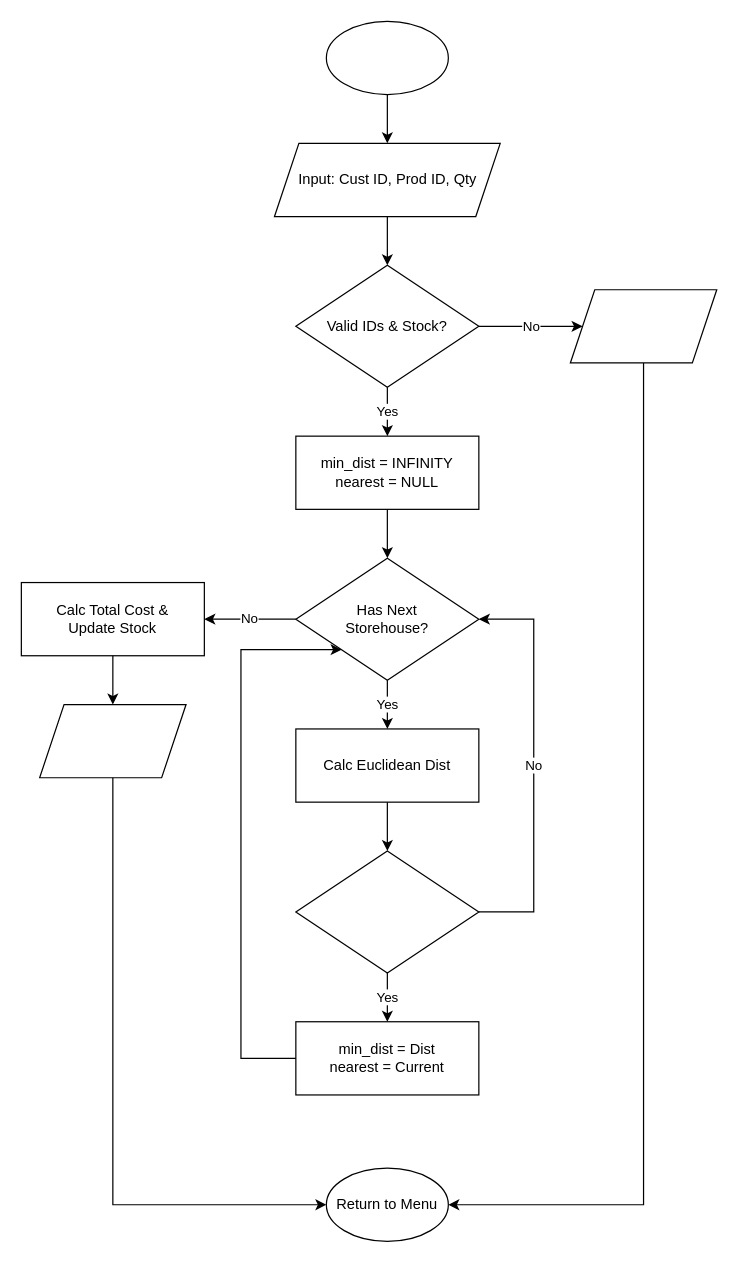
Image size: 738x1263. Some labels were removed from this diagram. Here are the shapes that lost their labels. From the top down, the centre of each, then its label:
the point at 386,57: Start
the point at 643,326: Print Error
the point at 112,740: Print Invoice
the point at 387,911: Dist < min_dist?
